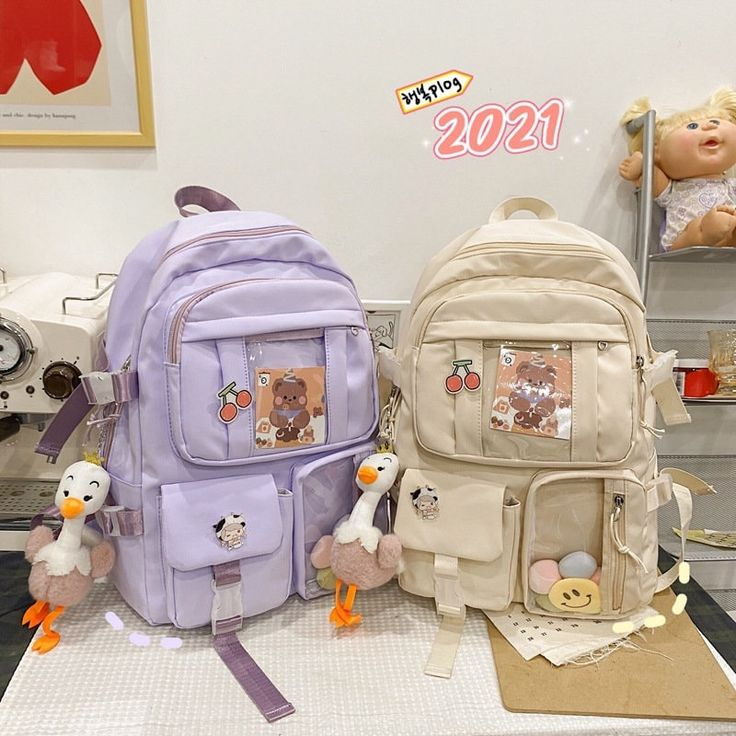nylon: (34, 185, 715, 721)
